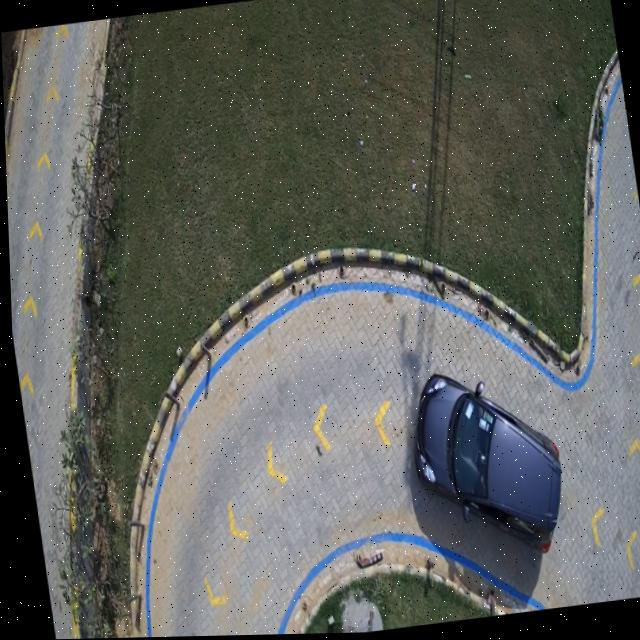car: (411, 376, 557, 553)
